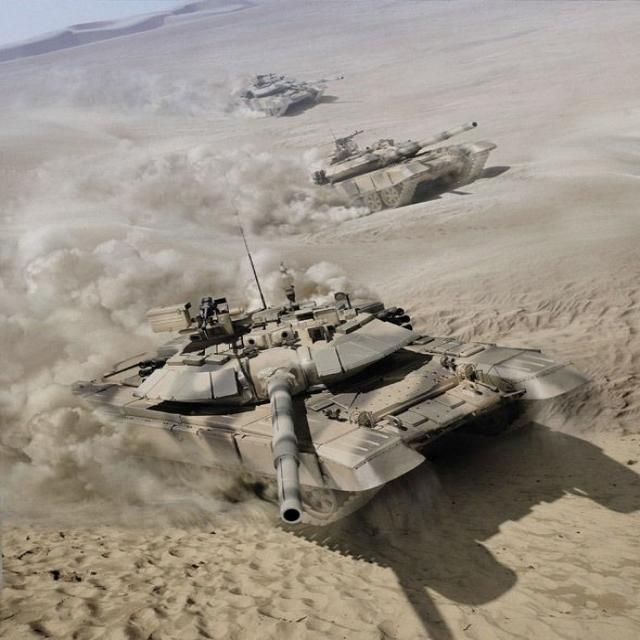tank: (69, 280, 558, 529), (311, 120, 497, 211), (237, 73, 347, 124)
